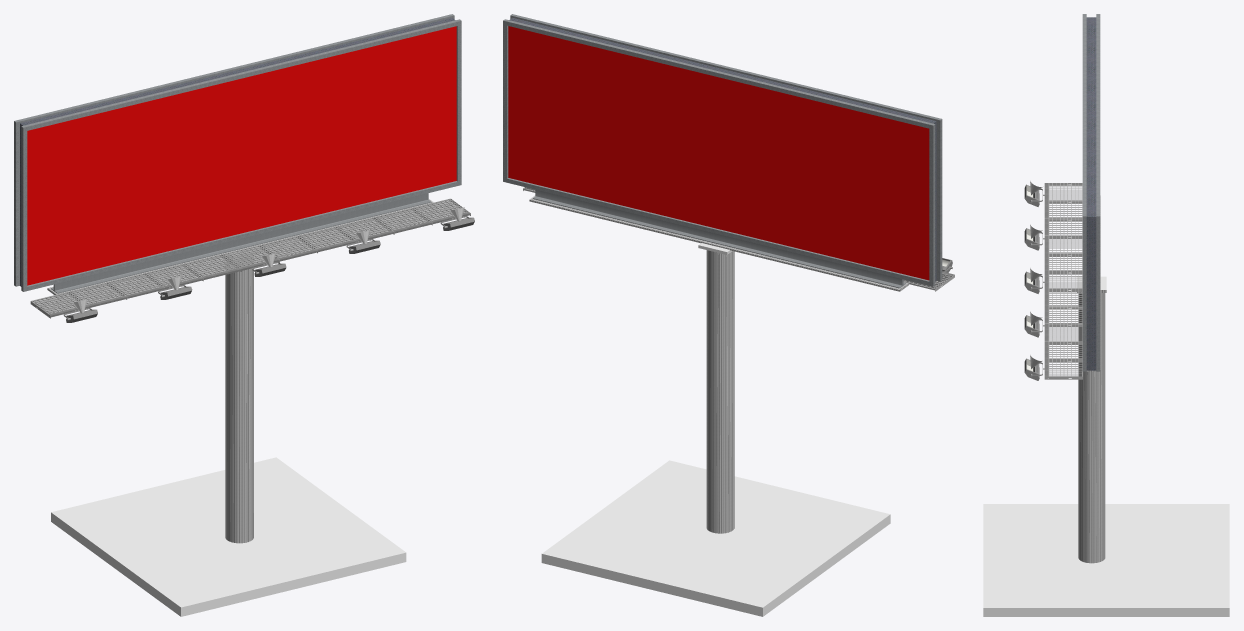
The model's file is big_billboard.glb.
3 views of the same model, side by side, from view 1: azimuth 30°, elevation 25°; view 2: azimuth 150°, elevation 25°; view 3: azimuth 270°, elevation 25° (orthographic). The views are drawn at different scales.
Parts seen in each view (by area): view 1: Material2 (×9); view 2: Material2 (×9); view 3: Material2 (×5).
Boxes of the visible parts, <box> form: Material2 (×9): <box>14,14,461,616</box>; Material2 (×9): <box>503,14,942,616</box>; Material2 (×5): <box>983,14,1229,616</box>.
Bounding box in the file's own units: 383 × 398 × 197.
13 materials, 8 textured.
